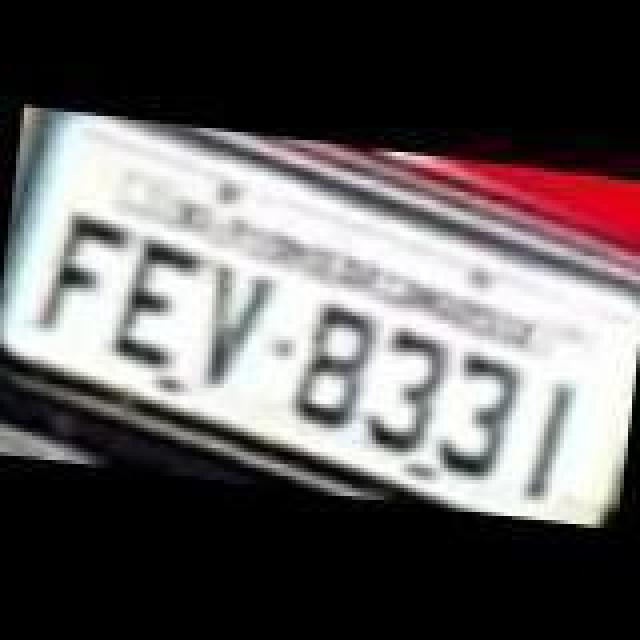1: (522, 378, 582, 502)
3: (434, 346, 518, 486), (366, 326, 450, 458)
8: (286, 298, 378, 430)
E: (102, 234, 202, 374)
F: (32, 206, 136, 338)
V: (196, 260, 284, 396)
